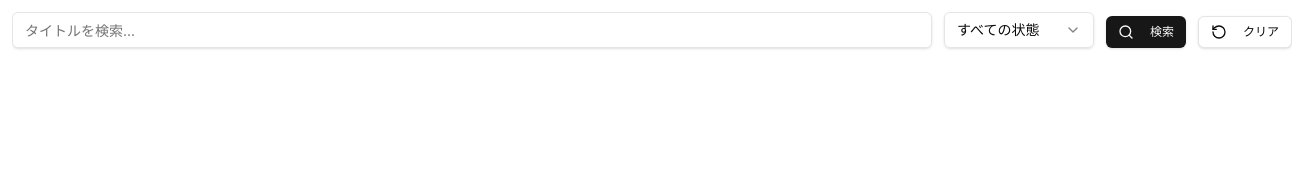
Test: SearchBar › clear functionality › should clear search input when clear button is clicked
Type "test query" into the field with test id "search-input".
click(472, 30); type("test query")  # box [12, 12, 932, 48]
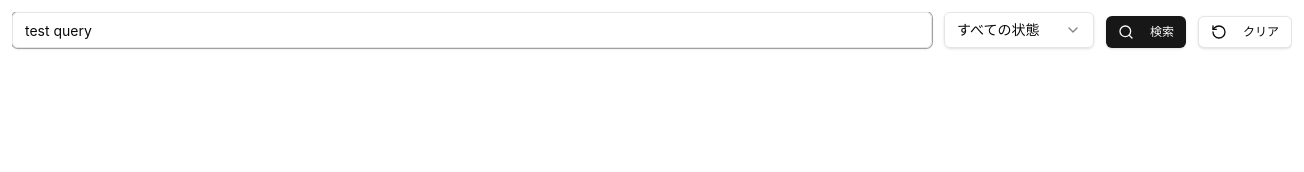
Click the button with test id "clear-button".
click(1245, 32)  # box [1198, 16, 1292, 48]
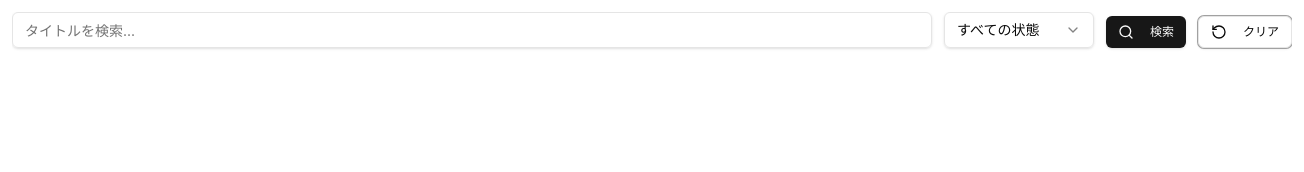
Expected: the field with test id "search-input" is empty, [12, 12, 932, 48]
